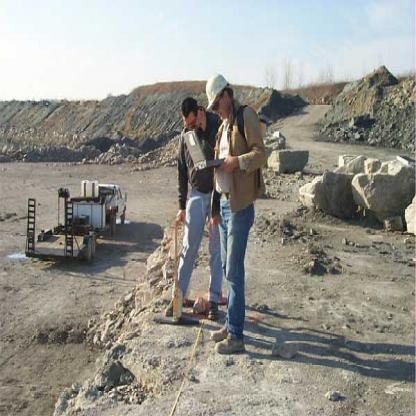person: (180, 59, 274, 365)
